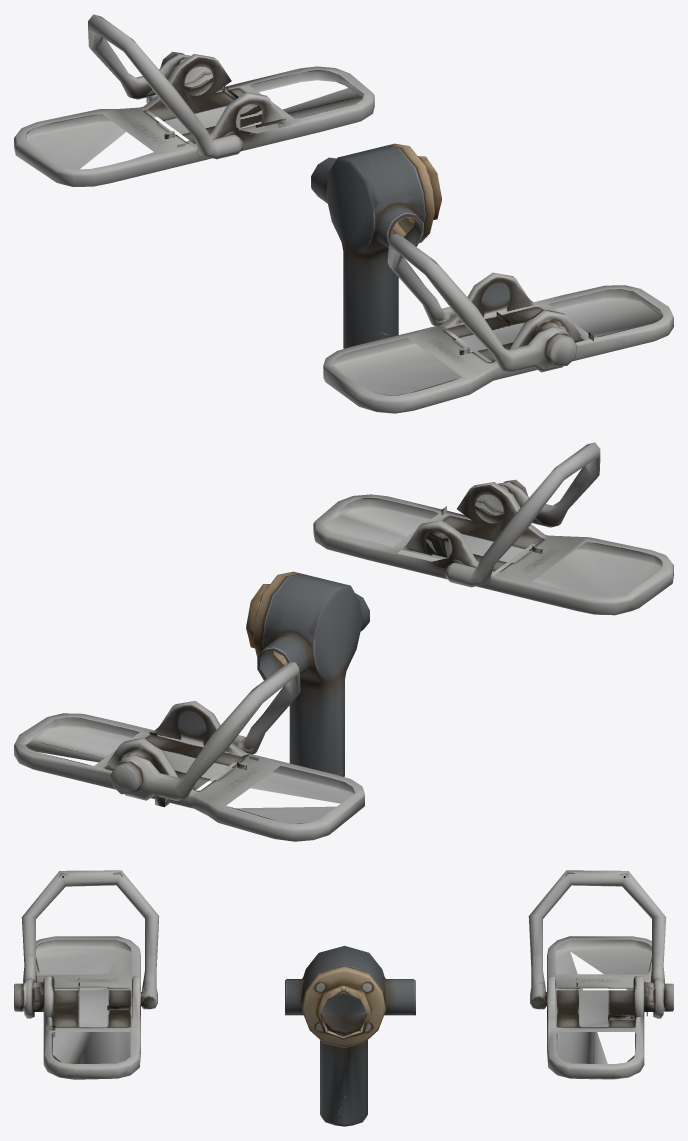
Rendered from pedals_lp_remesh.glb.
The picture shows the model from 3 angles, top to bottom: view 1: azimuth 30°, elevation 25°; view 2: azimuth 150°, elevation 25°; view 3: azimuth 270°, elevation 25°; orthographic projection. The views are drawn at different scales.
Visible parts, largest first — view 1: tripo_node_a41750db-d9ce-403a-884e-e7284; view 2: tripo_node_a41750db-d9ce-403a-884e-e7284; view 3: tripo_node_a41750db-d9ce-403a-884e-e7284.
Boxes of the visible parts, x1=… form: tripo_node_a41750db-d9ce-403a-884e-e7284: x1=14, y1=14, x2=673, y2=413; tripo_node_a41750db-d9ce-403a-884e-e7284: x1=14, y1=442, x2=673, y2=841; tripo_node_a41750db-d9ce-403a-884e-e7284: x1=14, y1=870, x2=673, y2=1126.
Size of the model in its own units: 0.4755 by 0.3346 by 0.9961.
Materials: 1 (1 with a texture image).
